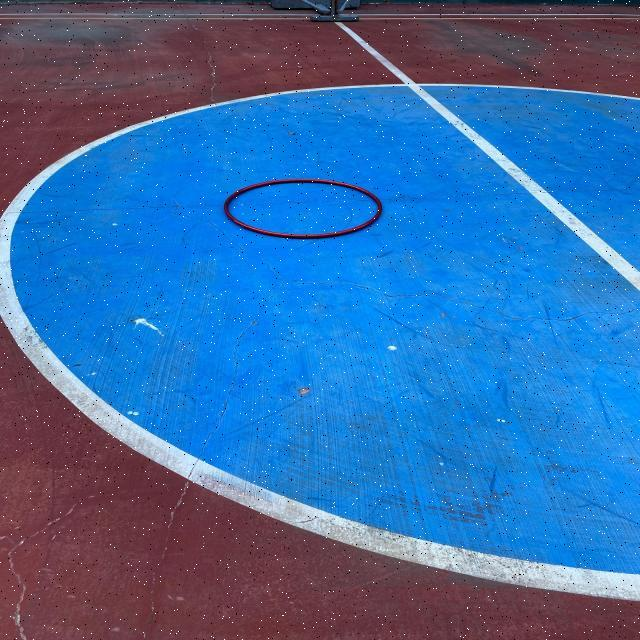Circle: (224, 178, 382, 240)
